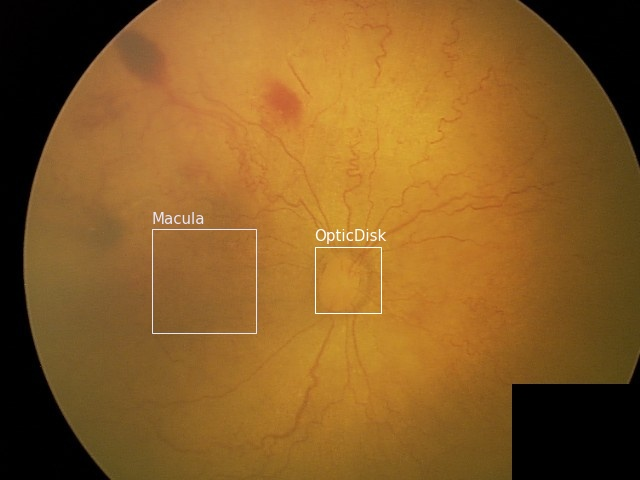Macula: (151, 228, 255, 332)
OpticDisk: (314, 246, 380, 312)
